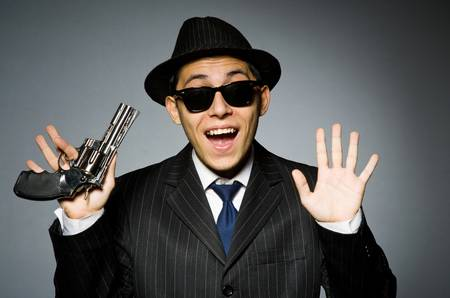gun: (11, 102, 142, 203)
